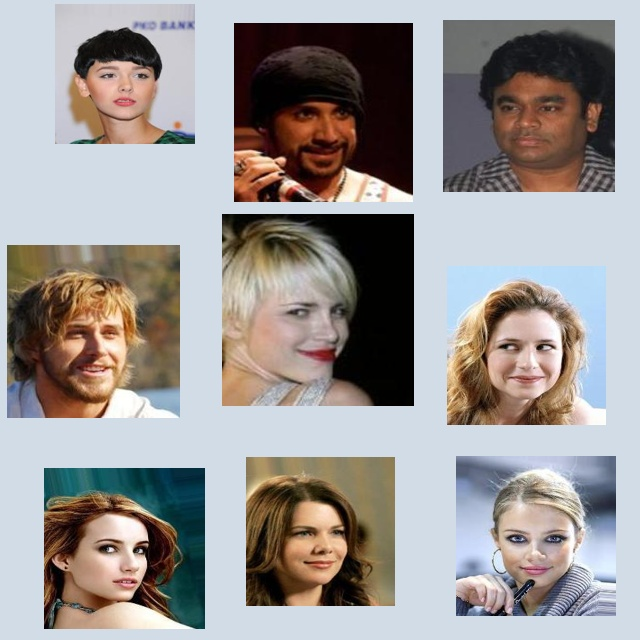celeb_10002: (456, 456, 616, 616)
celeb_2970: (44, 468, 205, 629)
celeb_3: (234, 23, 413, 202)
celeb_4428: (447, 266, 606, 425)
celeb_5695: (246, 457, 395, 606)
celeb_7: (443, 20, 615, 192)
celeb_7007: (55, 4, 195, 144)
celeb_797: (222, 214, 414, 406)
celeb_8335: (7, 245, 180, 418)
